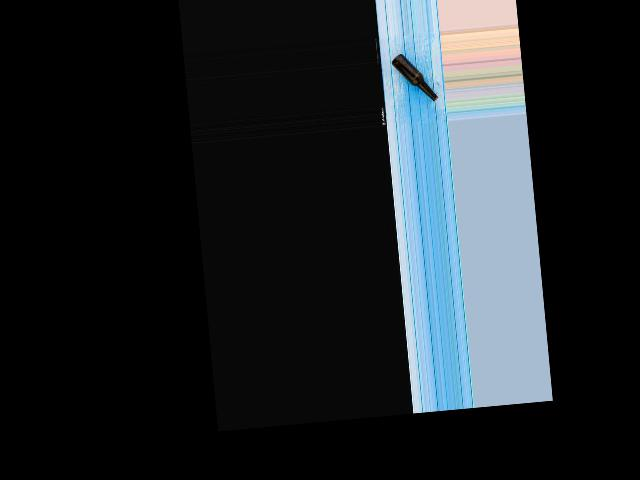beer: (389, 50, 438, 104)
